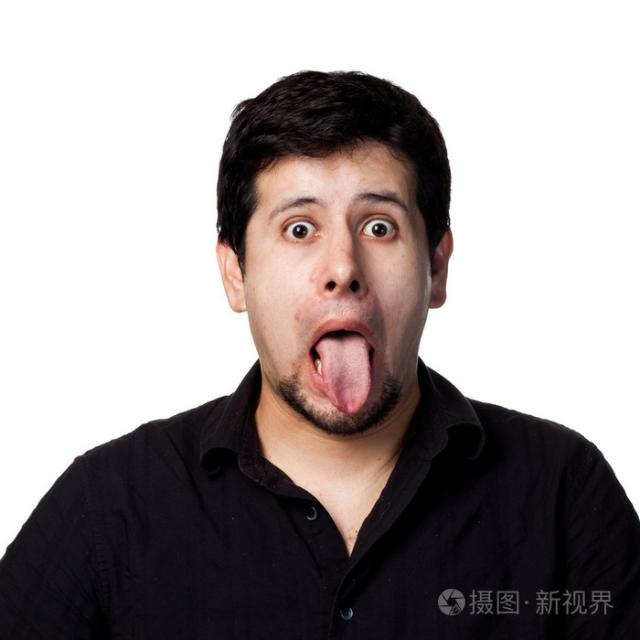tongue: (311, 330, 377, 417)
